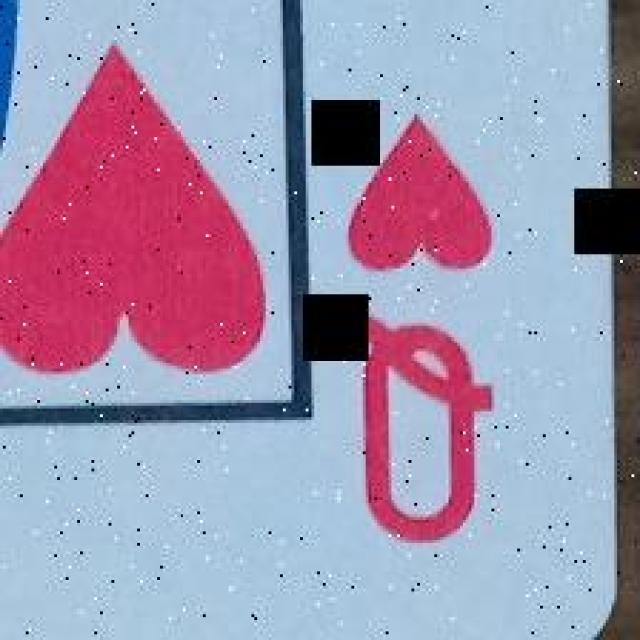Queen of hearts: (0, 6, 606, 637)
